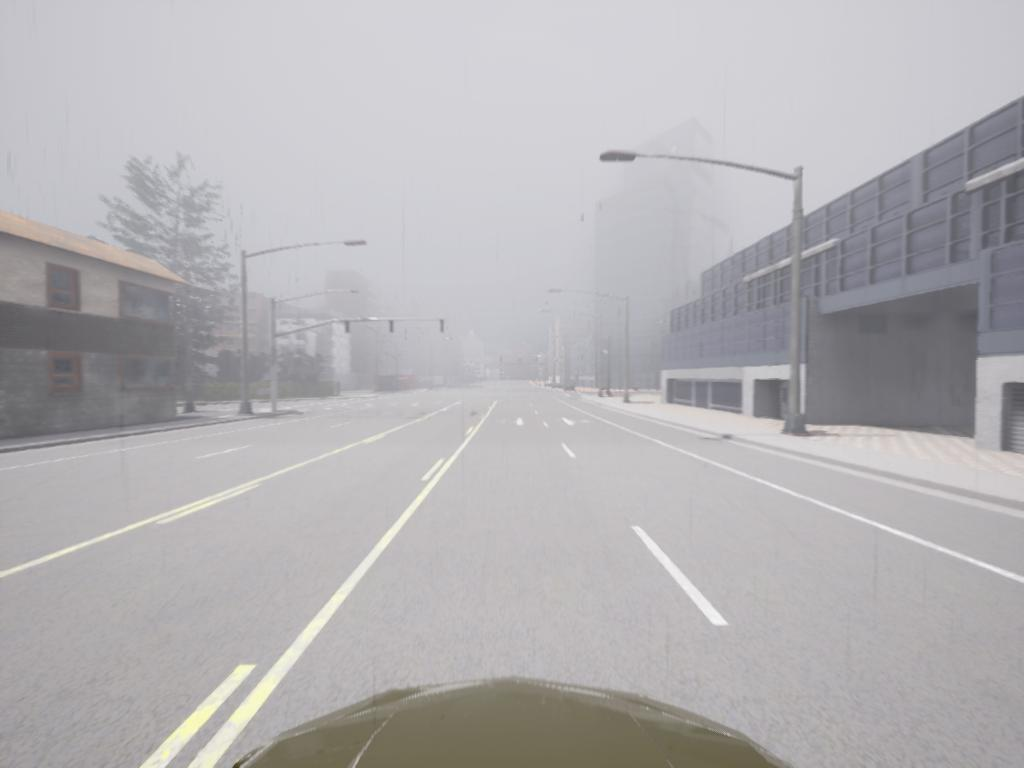traffic_light: (439, 319, 446, 337), (389, 321, 397, 336), (344, 320, 351, 337)
